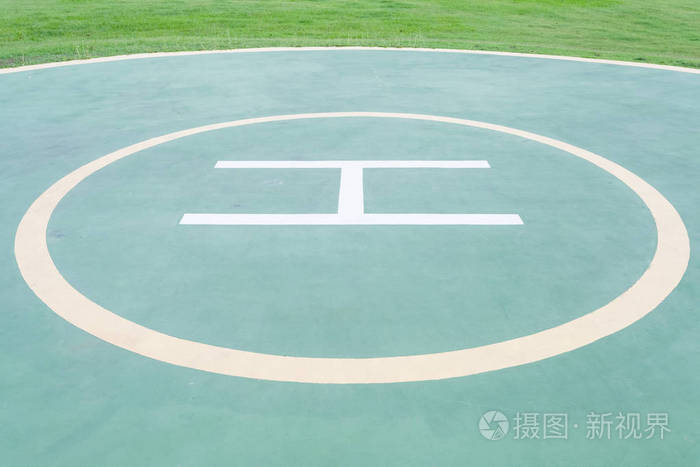H: (180, 159, 524, 226)
